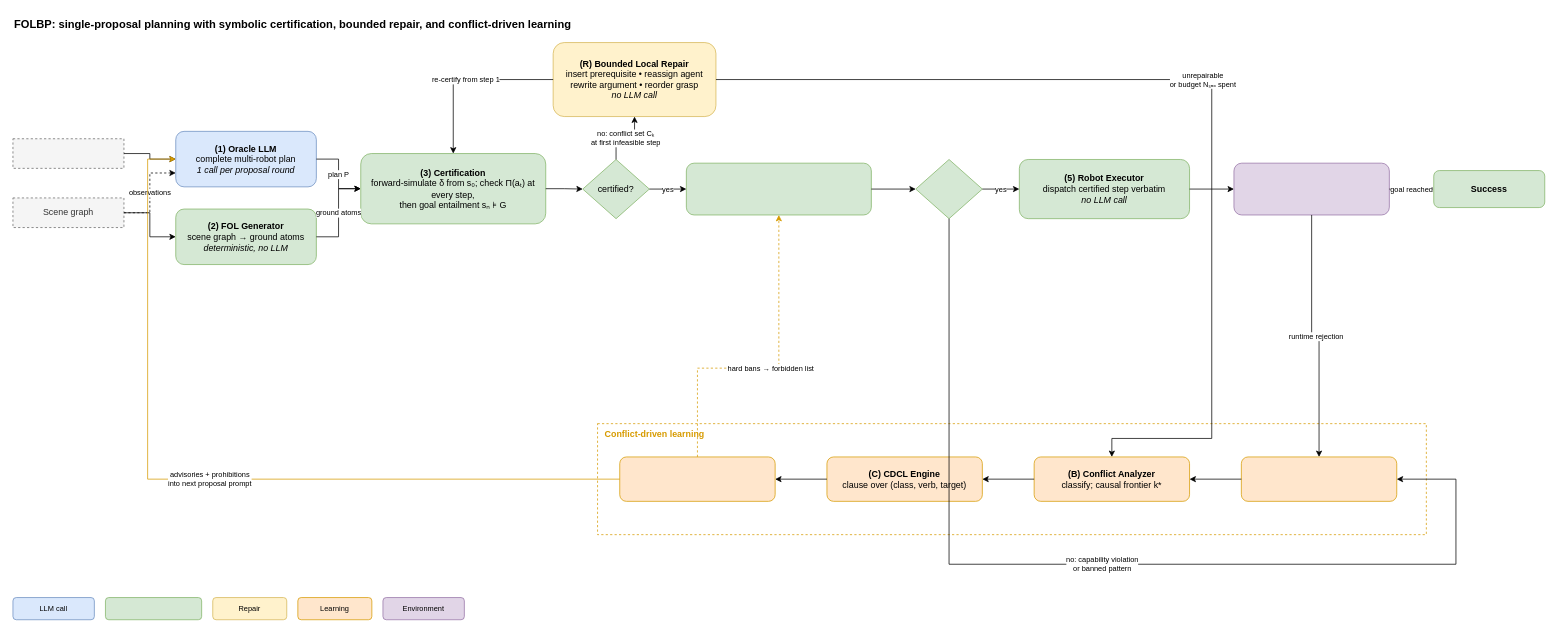
Image size: 1558x633. Some labels were removed from this diagram. Here are the shapes that lost their labels. From the top down, the centre of each, then its label:
point 68,153: Task instruction
point 778,188: (4) Plan Validator capability dict + learned hard bans
point 948,189: valid?
point 1311,188: (6) Environment OmniGibson / BEHAVIOR-1K
point 697,478: (D) Constraint Injection hard ban / verified defect / advisory
point 1319,478: (A) Task Graph temporal + resource edges
point 153,608: Symbolic (no LLM)
